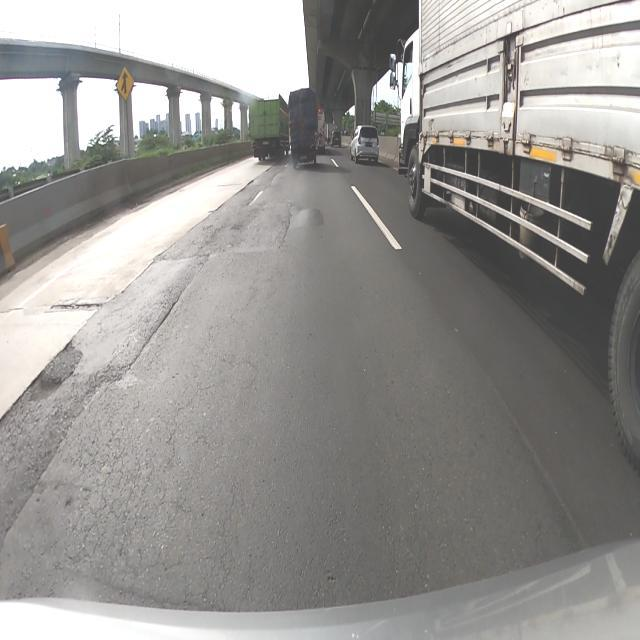Buraco: (24, 367, 66, 404), (48, 302, 105, 312)
